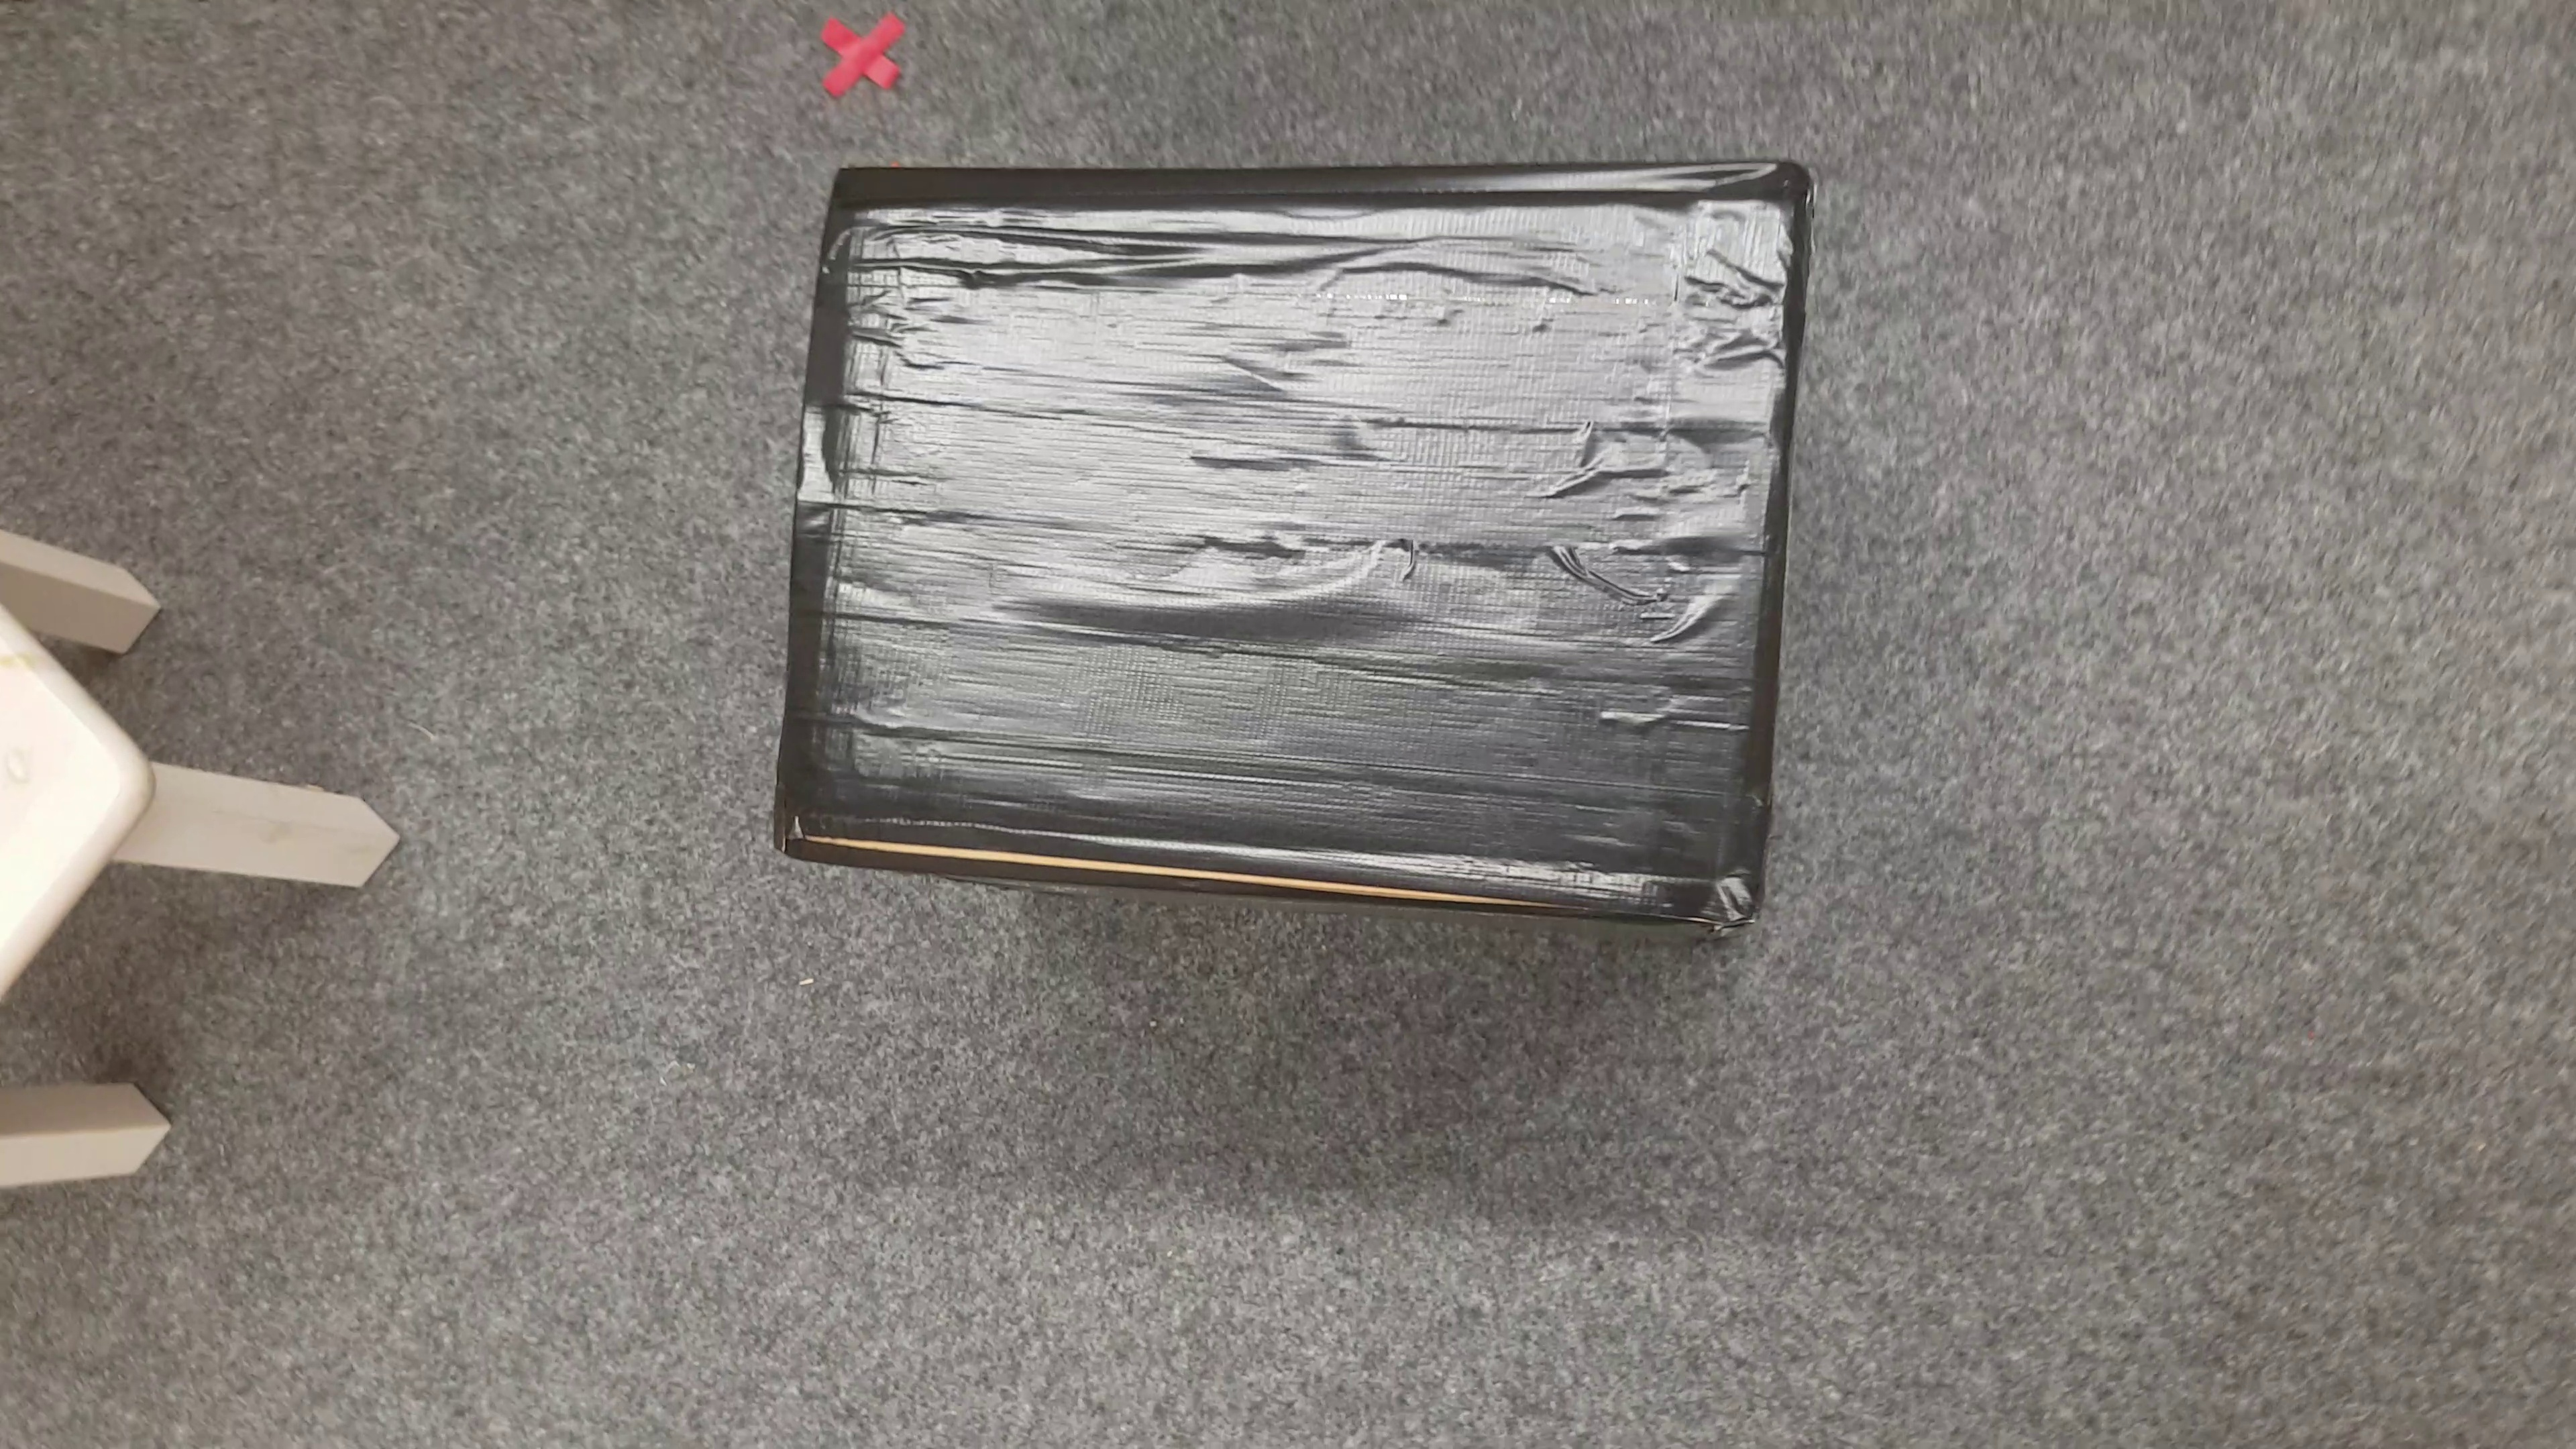push: (780, 152, 1810, 964)
